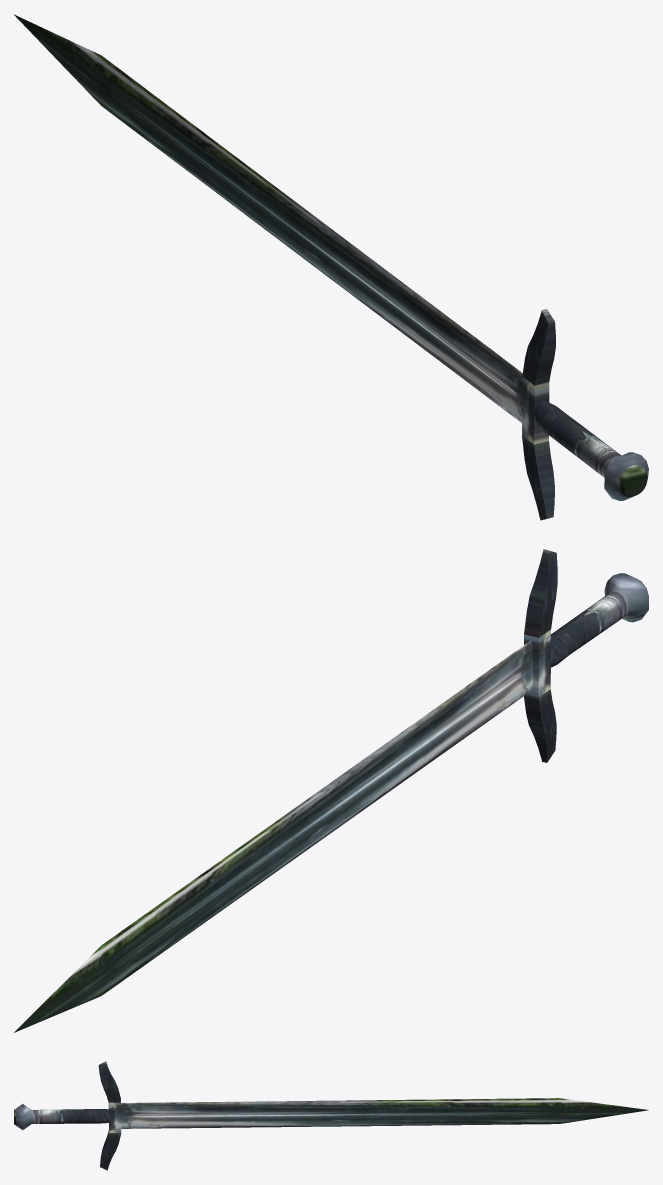
The model's file is sword.glb.
The picture shows the model from 3 angles, top to bottom: view 1: azimuth 30°, elevation 25°; view 2: azimuth 150°, elevation 25°; view 3: azimuth 270°, elevation 25°; orthographic projection. The views are drawn at different scales.
Parts seen in each view (by area): view 1: sword.ms3d.mo; view 2: sword.ms3d.mo; view 3: sword.ms3d.mo.
Part boxes in pixels (left/top/right/bottom): sword.ms3d.mo: left=14, top=14, right=648, bottom=520; sword.ms3d.mo: left=14, top=549, right=648, bottom=1032; sword.ms3d.mo: left=14, top=1061, right=648, bottom=1170.
Bounding box in the file's own units: 9.59 × 43.53 × 232.
Materials: 1 (1 with a texture image).
